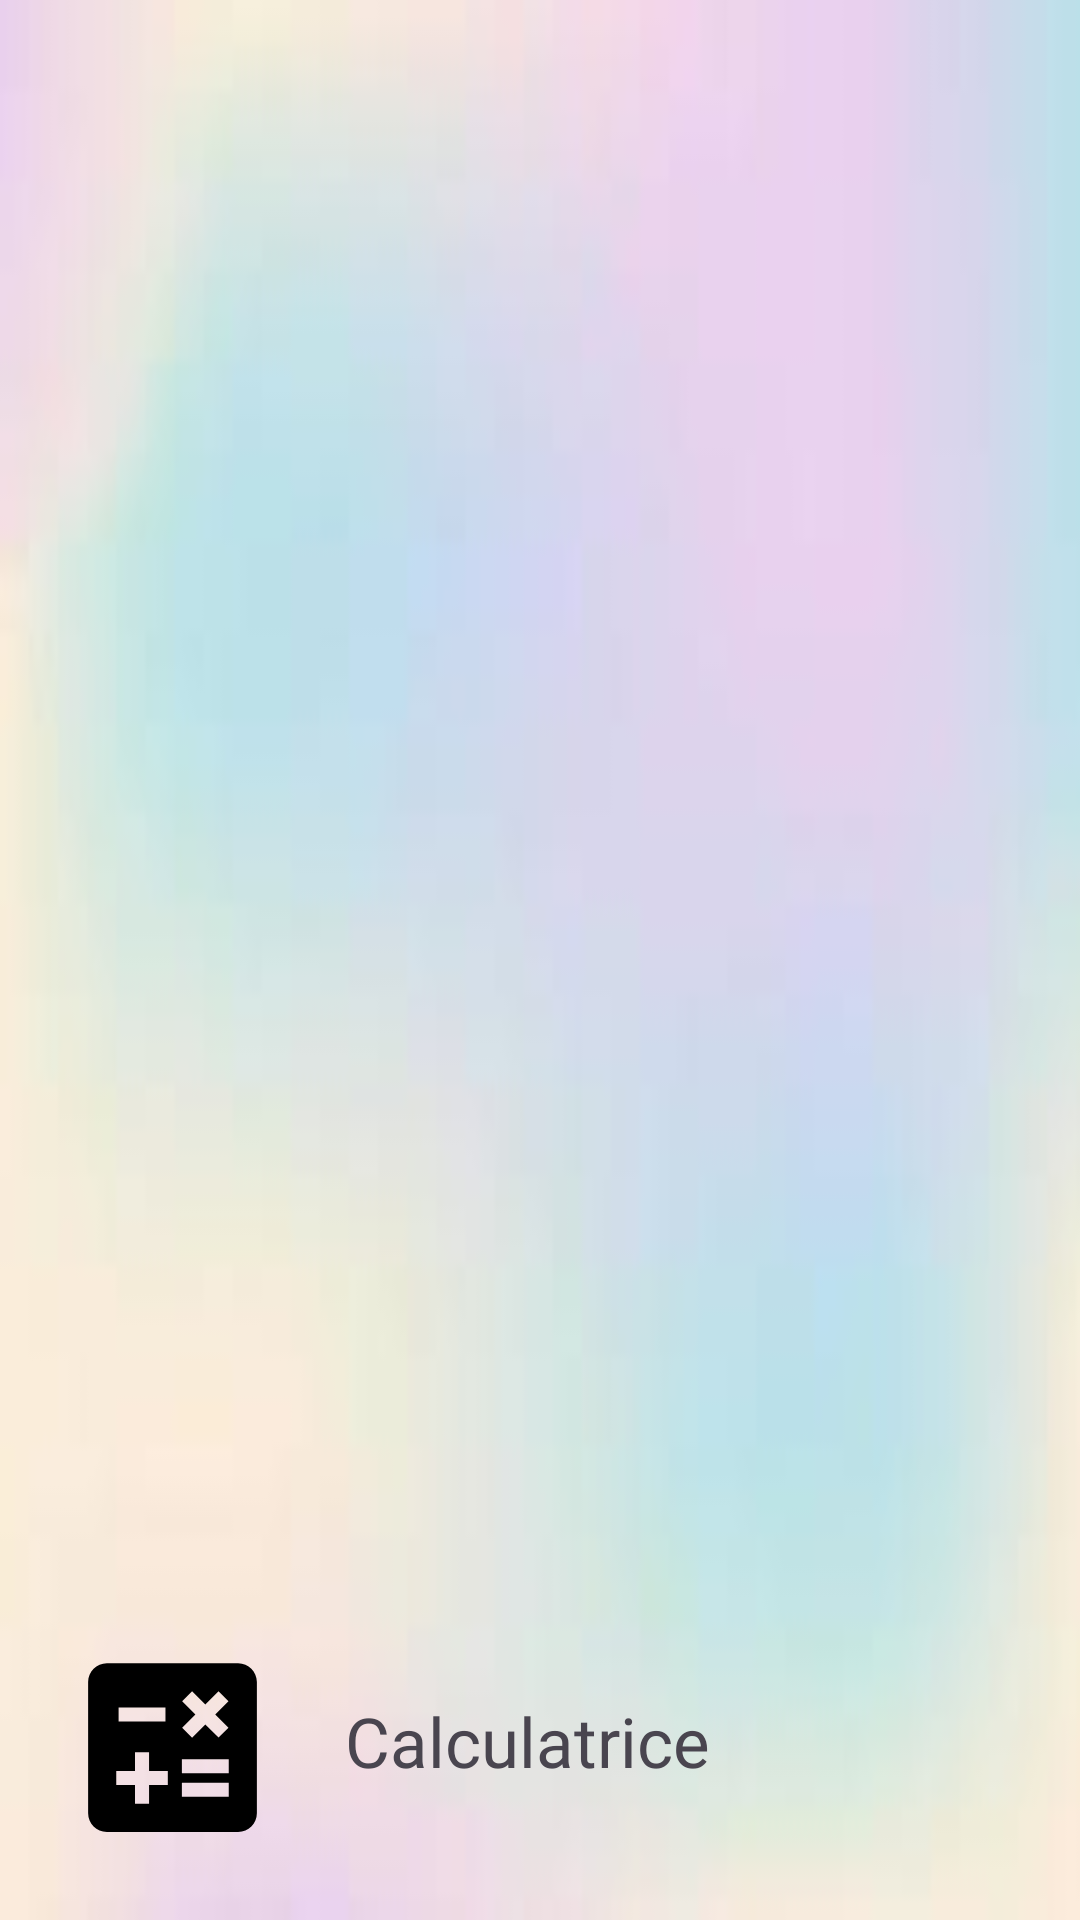

Where icons sit on this 1080px×1920px app screen, as [x1,y1,x2,y2]:
calculate: [88,1663,257,1832]
